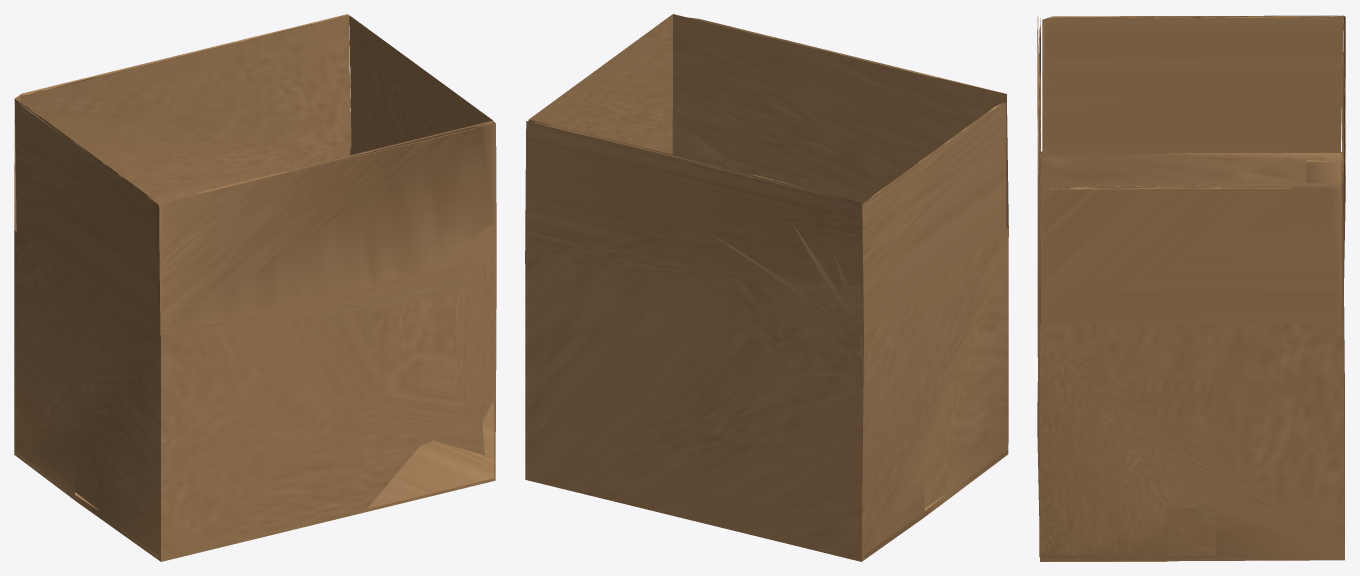
File: simready-box-shipping.lite.4e7b12cb.glb
3 renders of one model, left to right at view 1: azimuth 30°, elevation 25°; view 2: azimuth 150°, elevation 25°; view 3: azimuth 270°, elevation 25°, orthographic. The views are drawn at different scales.
Visible parts, largest first — view 1: model; view 2: model; view 3: model.
Part boxes in pixels (x1,y1,x2,y2): model: (14,14,496,561); model: (525,14,1008,561); model: (1037,15,1345,561).
Bounding box in the file's own units: 0.408 × 0.4157 × 0.308.
2 materials, 2 textured.
